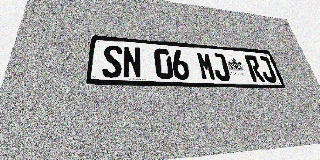0: (154, 48, 174, 80)
6: (170, 50, 191, 80)
J: (210, 53, 231, 81), (256, 56, 278, 82)
M: (196, 52, 217, 81)
N: (123, 46, 142, 79)
R: (244, 55, 265, 82)
S: (102, 45, 122, 78)
